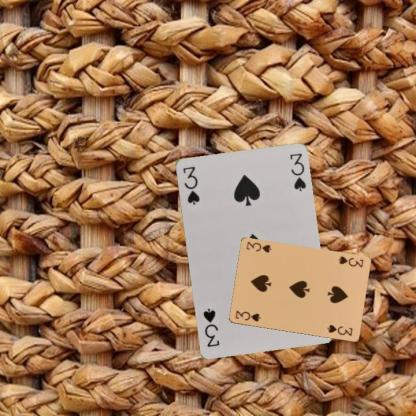3s: (180, 164, 201, 206), (233, 308, 262, 323), (335, 254, 364, 268)
